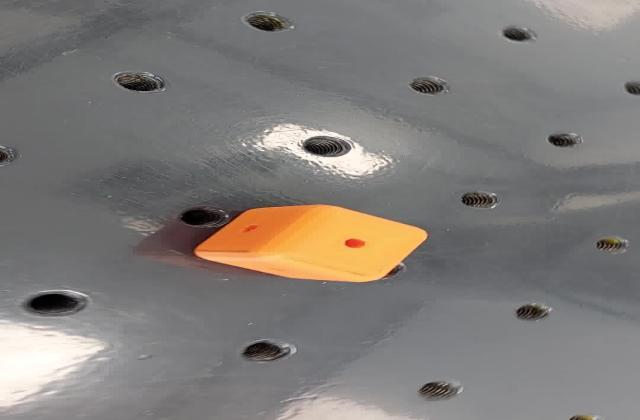cube: (185, 203, 430, 284)
